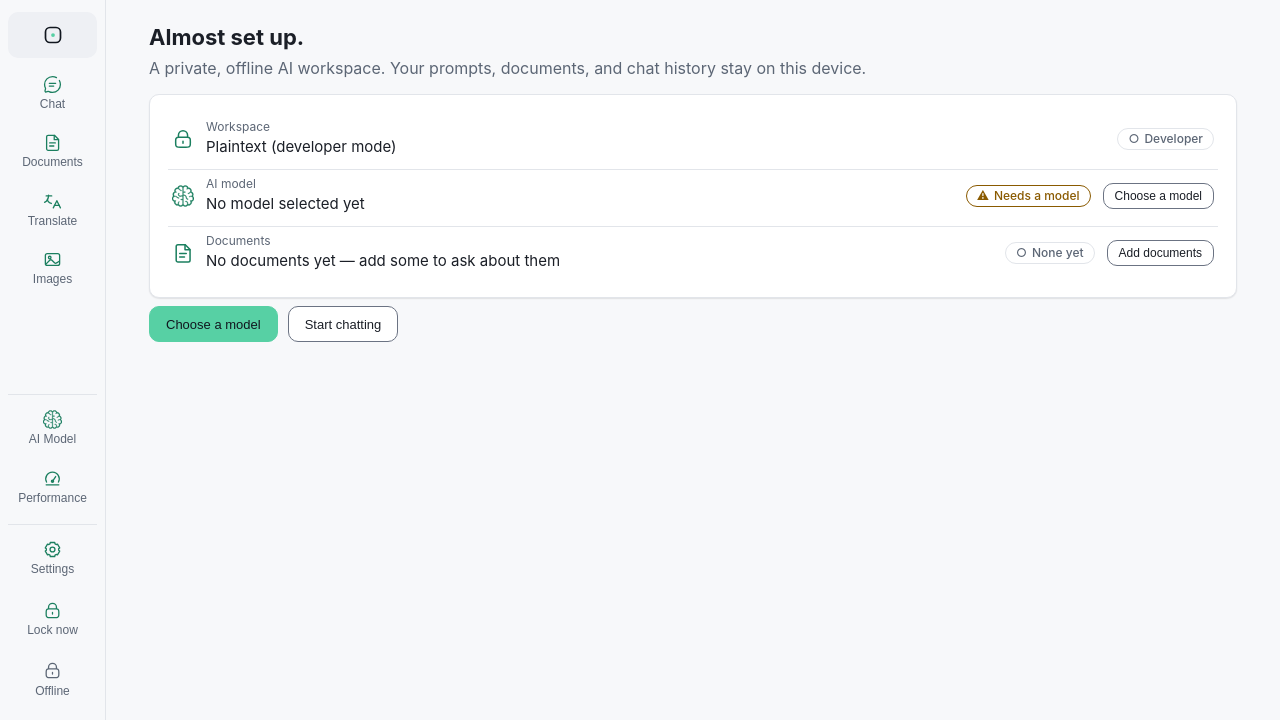
Test: App.lockNow — purges the session stores at the real lock seam (TA-2) › surfaces a failed lock on a banner — stores kept, shell still unlocked (CODE-26)
Click the button "Lock now" at (52,619), box [8,592,97,646]
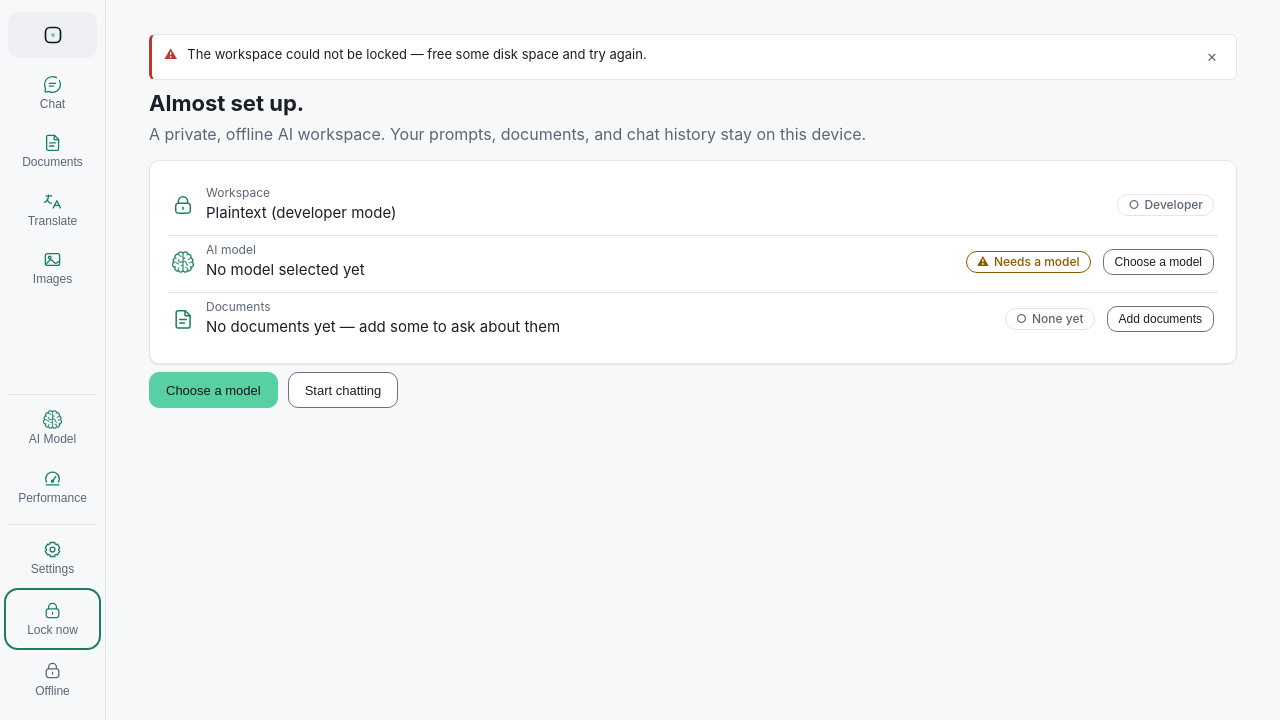
# The banner is dismissible (retry stays available).
Click the button named "Dismiss" at (1212,57), box [1200,45,1224,69]
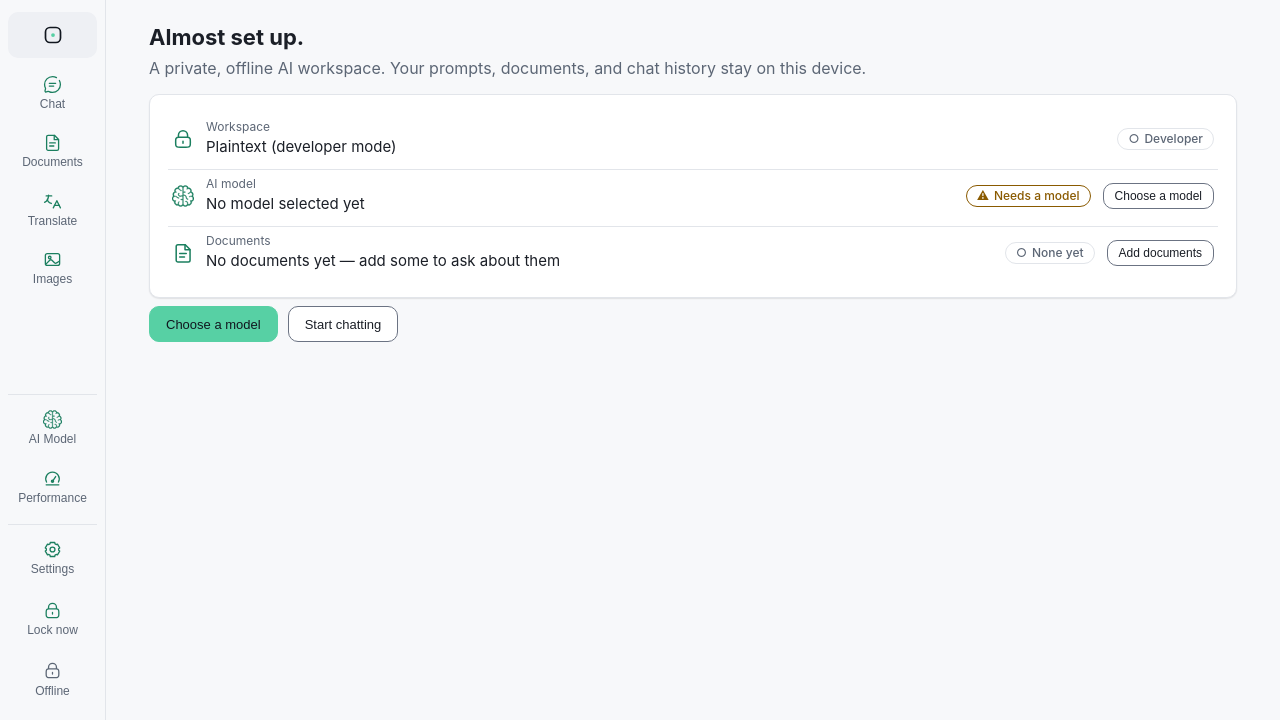
Result: the text "The workspace could not be locked — free some disk space and try again." is gone
